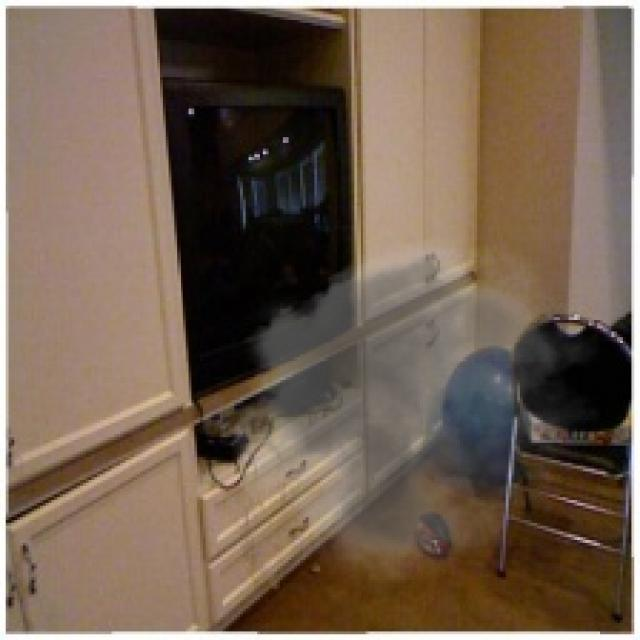Smoke: (215, 226, 600, 583)
